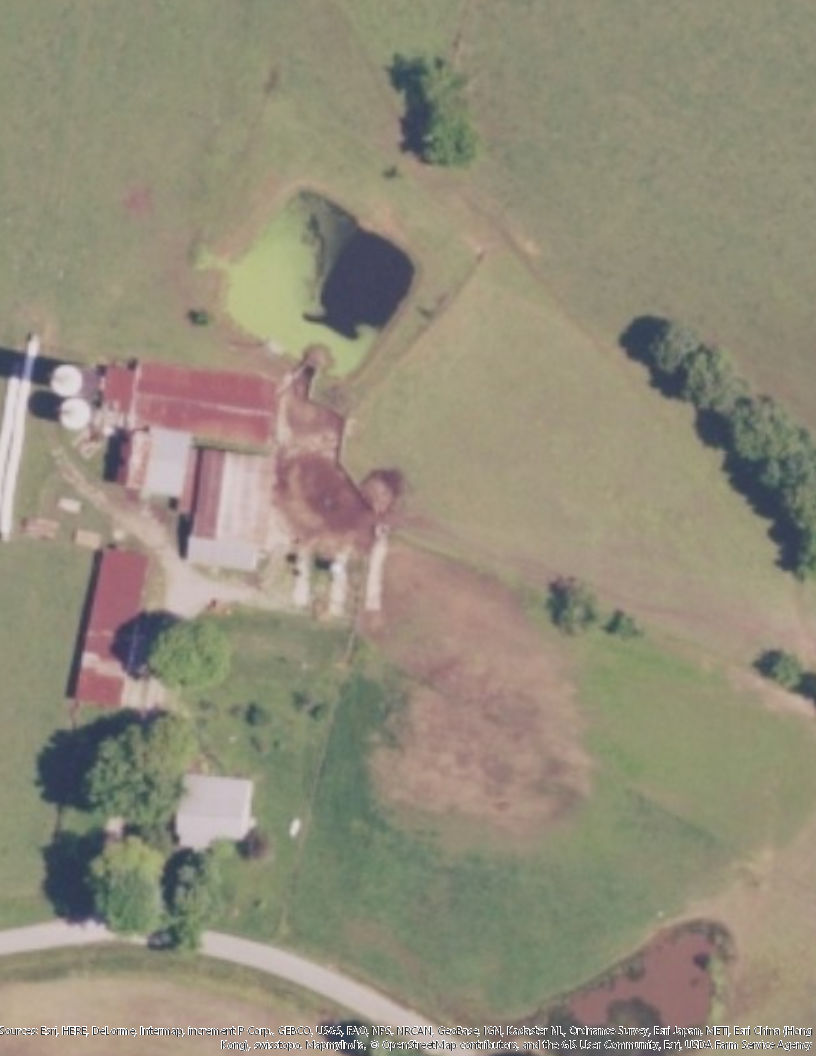cafo: (104, 358, 284, 449), (65, 547, 156, 708)
